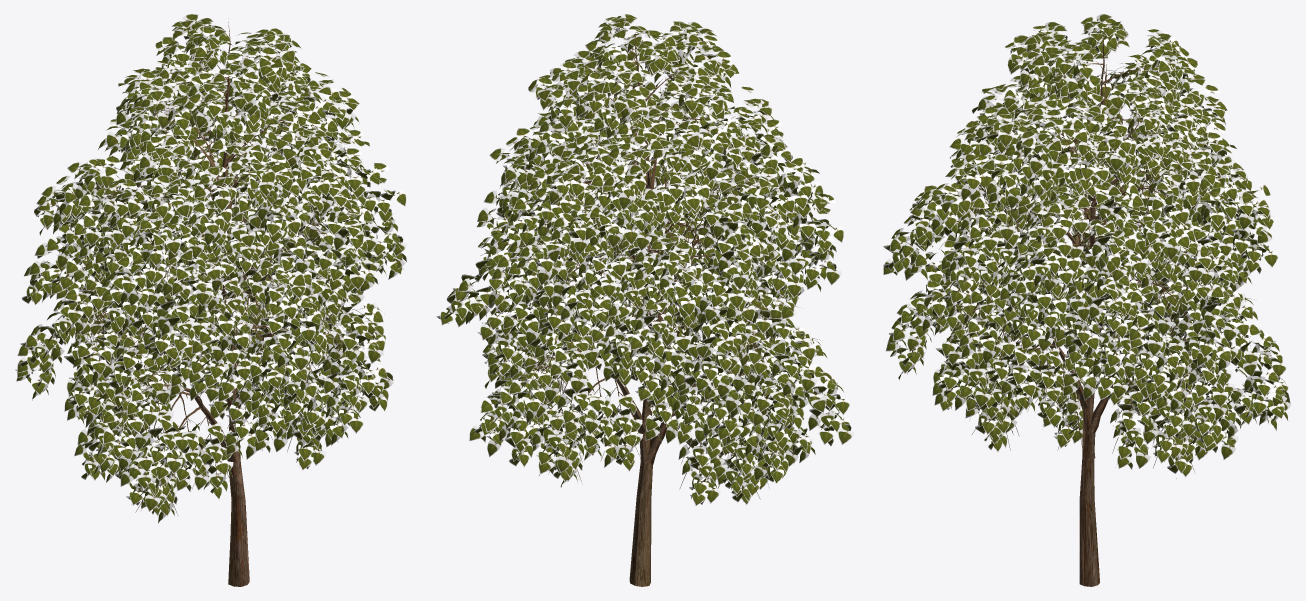
3 views of the same model, side by side, from view 1: azimuth 30°, elevation 25°; view 2: azimuth 150°, elevation 25°; view 3: azimuth 270°, elevation 25° (orthographic).
Parts seen in each view (by area): view 1: sub01, sub02; view 2: sub01, sub02; view 3: sub01, sub02.
Boxes of the visible parts, bbox=[...] form: sub01: bbox=[34, 14, 407, 586]; sub02: bbox=[15, 129, 393, 523]; sub01: bbox=[477, 14, 843, 586]; sub02: bbox=[436, 133, 854, 506]; sub01: bbox=[909, 14, 1278, 586]; sub02: bbox=[883, 121, 1291, 477].
Bounding box in the file's own units: 507 × 792 × 522.
Materials: 5 (5 with a texture image).
